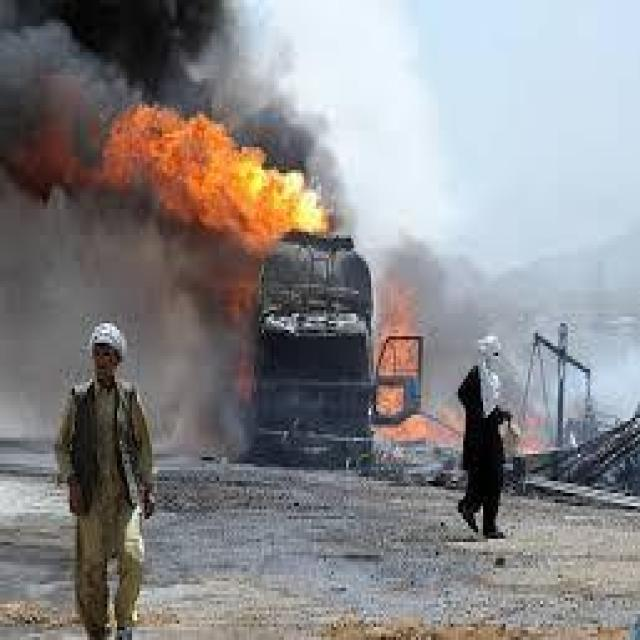fire: (64, 98, 330, 250), (368, 278, 432, 440)
smoke: (0, 0, 339, 157)
